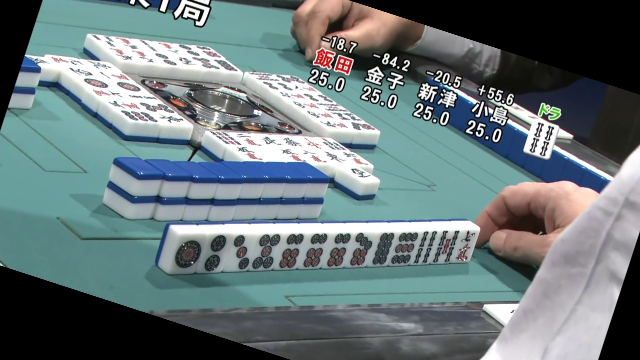Tehai: (160, 210, 477, 276)
